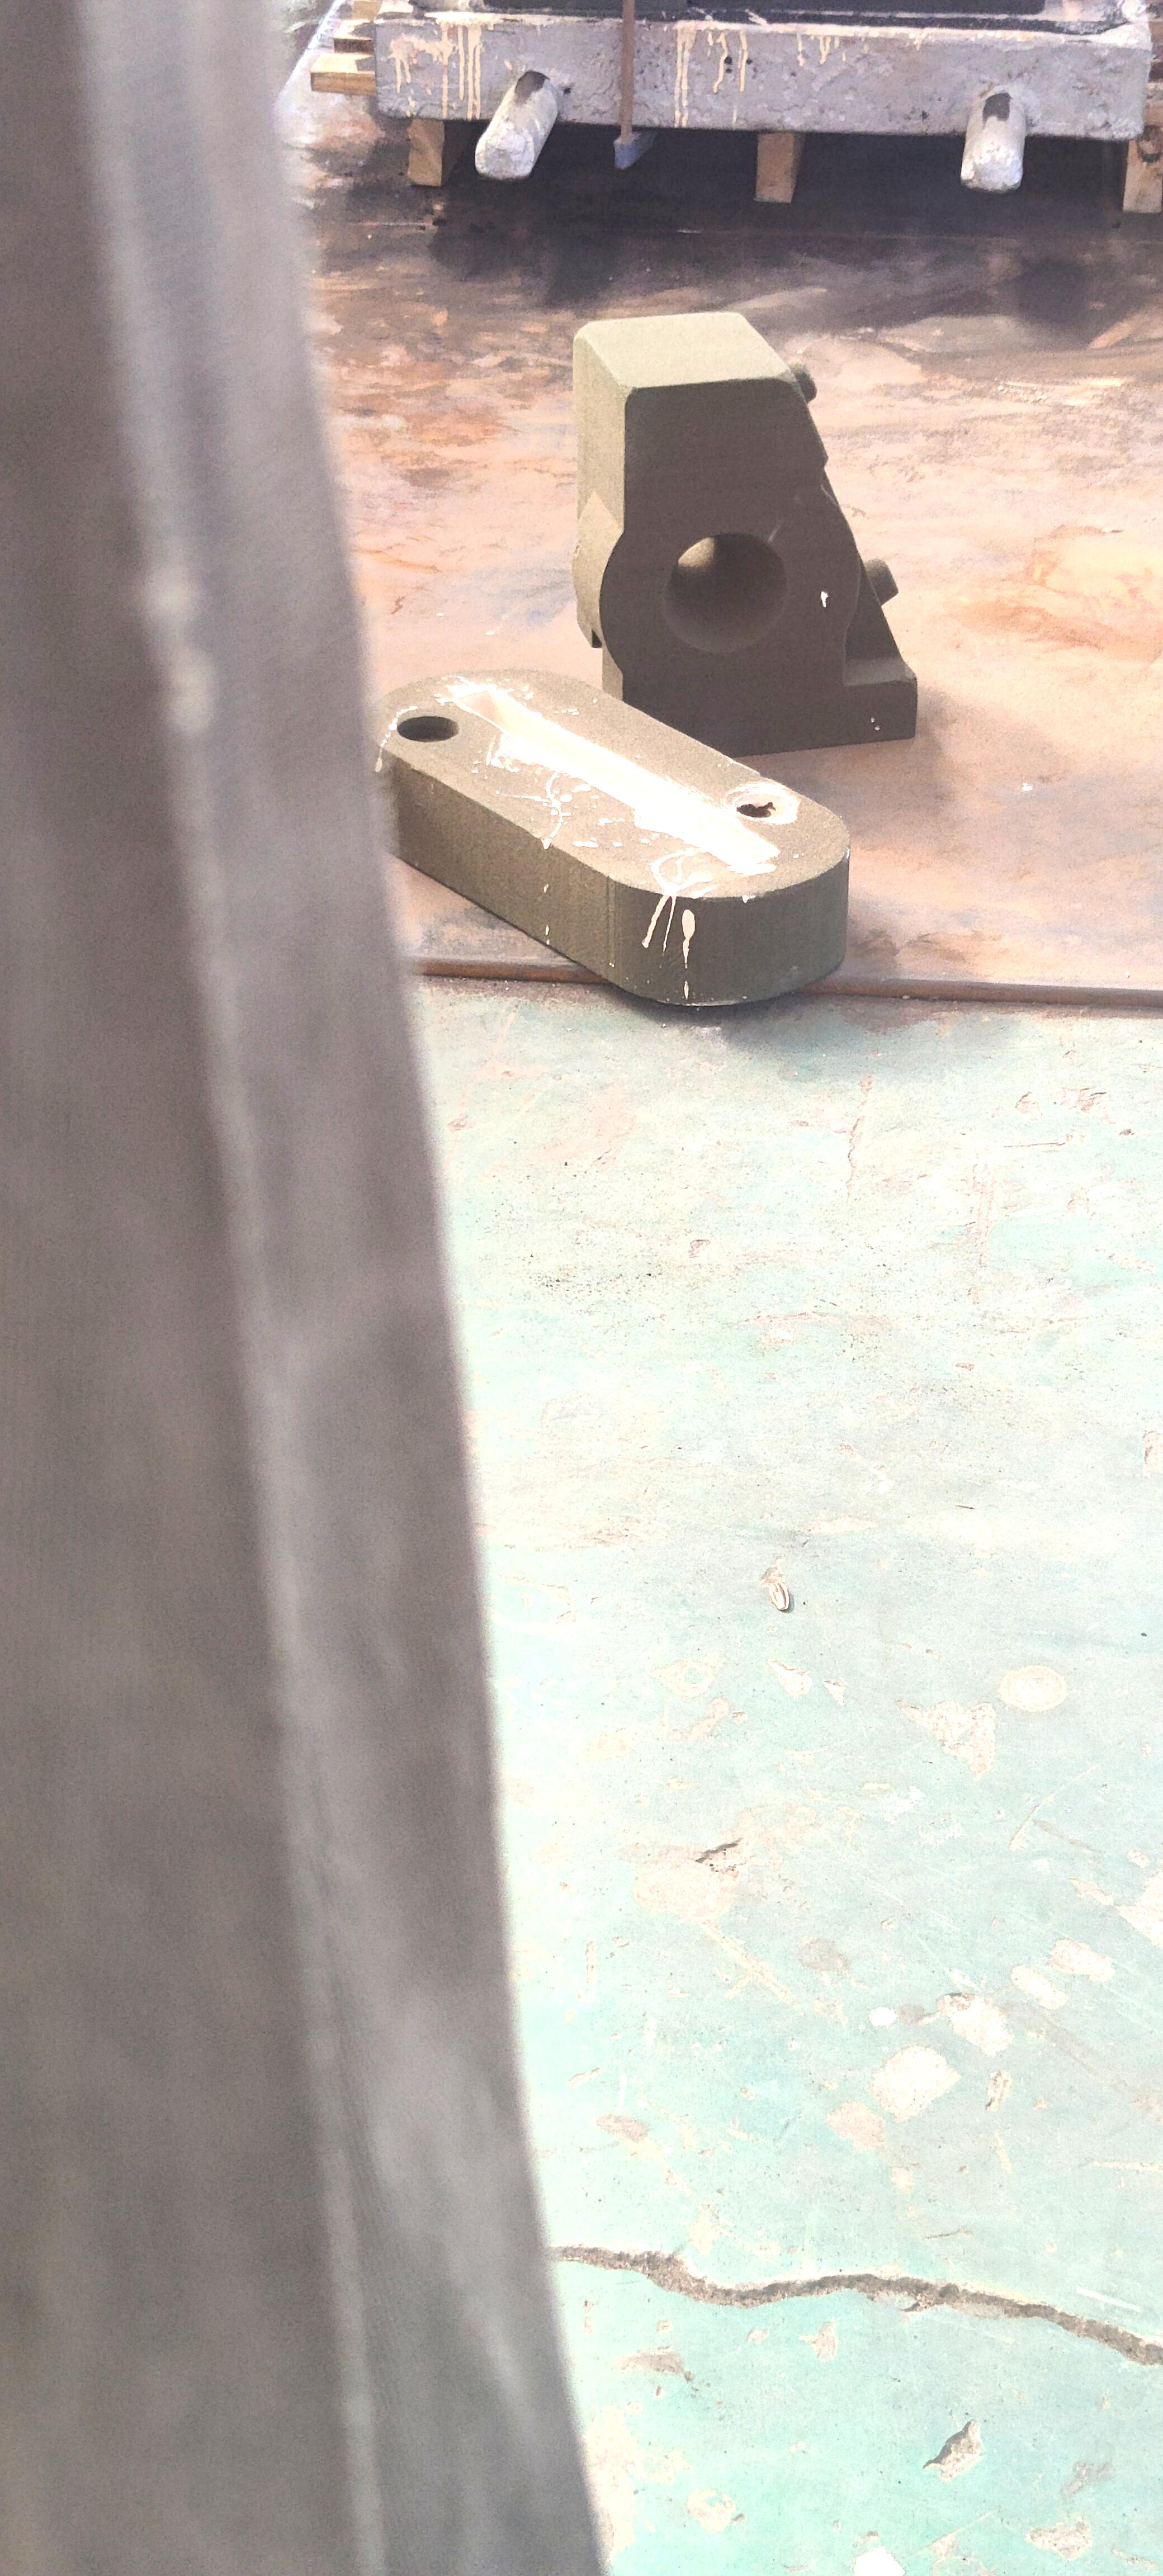pouring hole: (660, 531, 788, 656)
